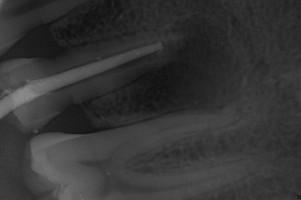Furcation Involvement: (133, 14, 235, 112)
